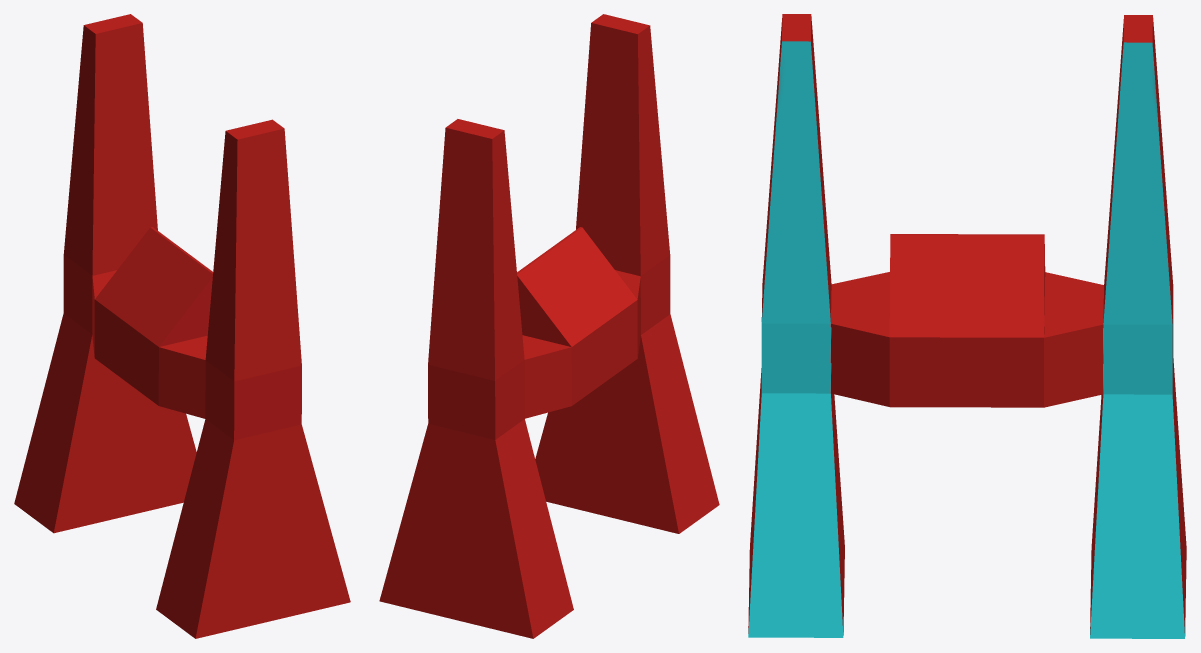
Rendered from RedShip32.fbx.
The picture shows the model from 3 angles, left to right: view 1: azimuth 30°, elevation 25°; view 2: azimuth 150°, elevation 25°; view 3: azimuth 270°, elevation 25°; orthographic projection. The views are drawn at different scales.
Parts seen in each view (by area): view 1: Cube; view 2: Cube; view 3: Cube.
Part boxes in pixels (left/top/right/bottom): Cube: left=14, top=14, right=350, bottom=638; Cube: left=379, top=14, right=719, bottom=638; Cube: left=748, top=14, right=1186, bottom=638.
Size of the model in its own units: 279 by 809 by 568.
1 material, 1 textured.
